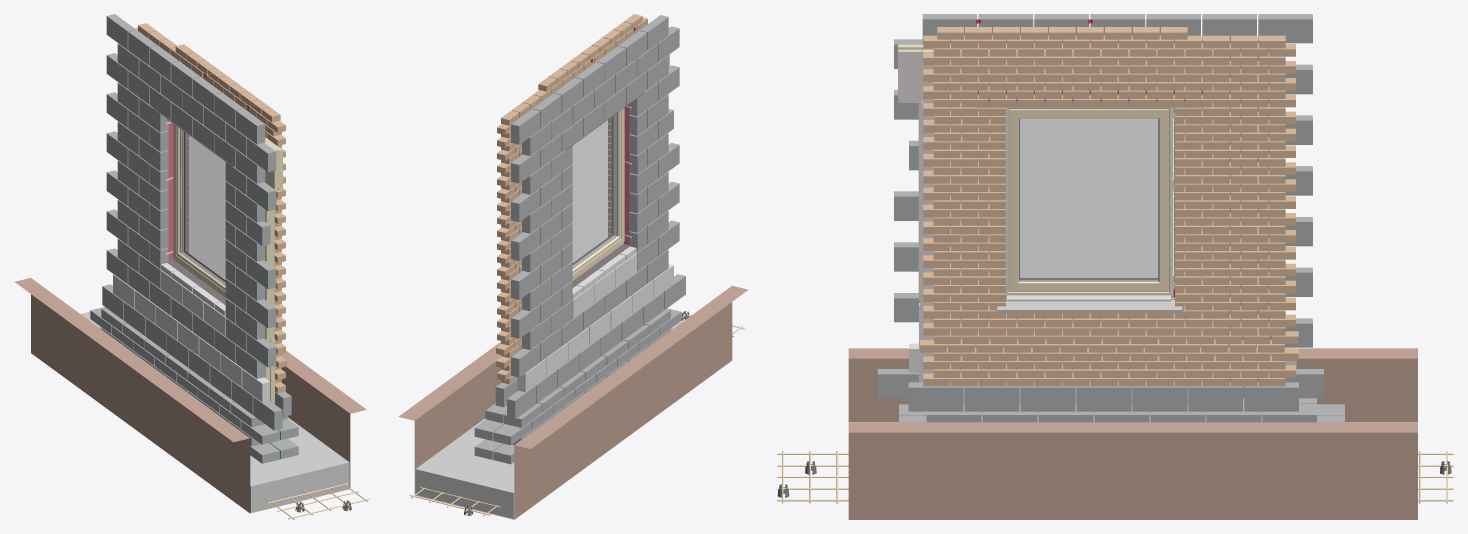
Rendered from Mock_Up_VDC_v4.glb.
The picture shows the model from 3 angles, left to right: view 1: azimuth 30°, elevation 25°; view 2: azimuth 150°, elevation 25°; view 3: azimuth 270°, elevation 25°; orthographic projection. The views are drawn at different scales.
Visible parts, largest first — view 1: Geom3D (×87), 3DGeom-1183; view 2: Geom3D (×86), 3DGeom-1187; view 3: Geom3D (×25), Geom3D_Assembly113#1_Instance, 3DGeom-1183.
Part boxes in pixels (left/top/right/bottom): Geom3D (×87): left=14, top=14, right=366, bottom=513; 3DGeom-1183: left=266, top=481, right=369, bottom=519; Geom3D (×86): left=398, top=15, right=748, bottom=519; 3DGeom-1187: left=409, top=487, right=500, bottom=516; Geom3D (×25): left=848, top=14, right=1417, bottom=519; Geom3D_Assembly113#1_Instance: left=997, top=297, right=1182, bottom=312; 3DGeom-1183: left=777, top=451, right=848, bottom=503.
Bounding box in the file's own units: 1.61 × 4.15 × 5.44.
